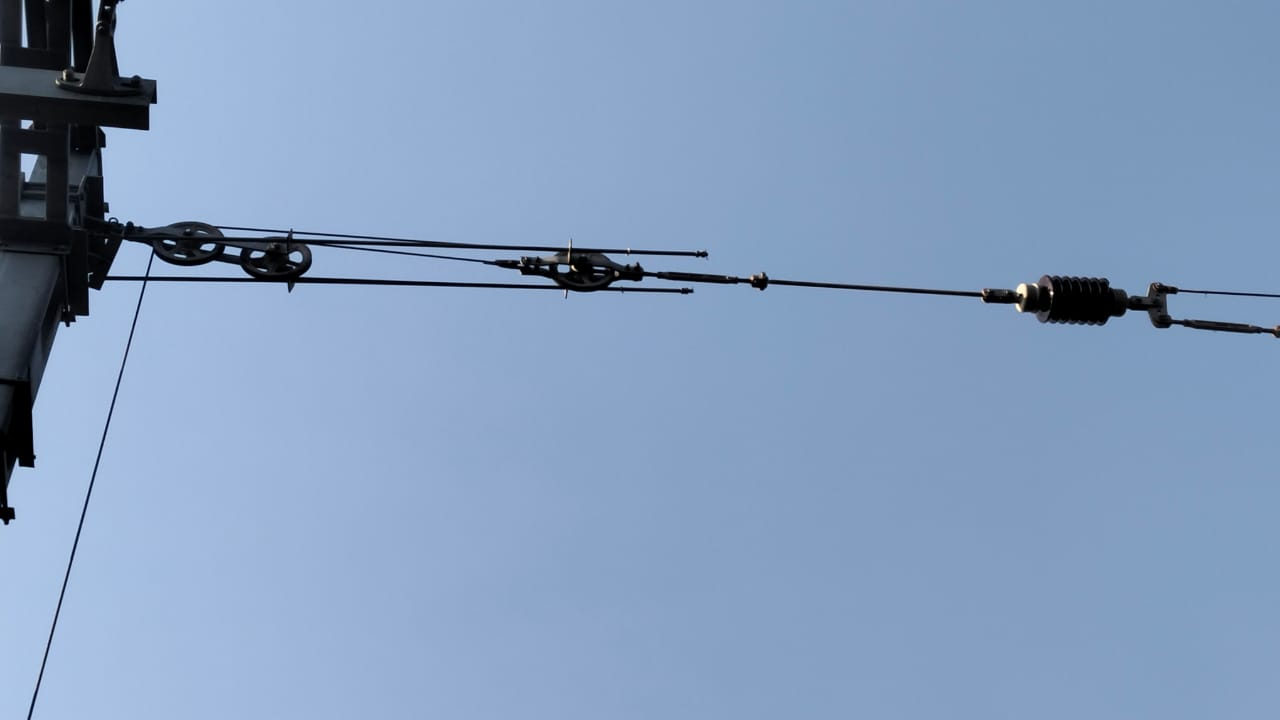Pulley: (541, 229, 627, 295), (238, 223, 321, 281), (155, 214, 226, 272)
objectA: (974, 259, 1136, 343)
pole: (0, 35, 93, 477)
